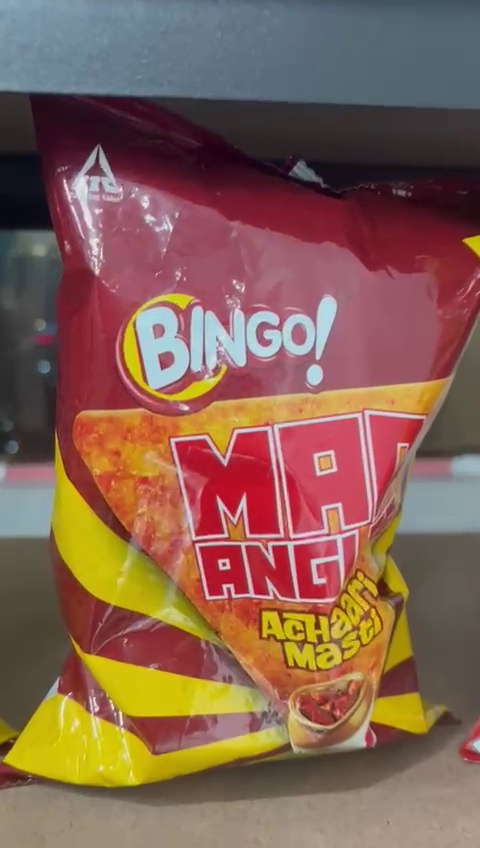Bingo Mad Angles: (31, 93, 449, 765)
